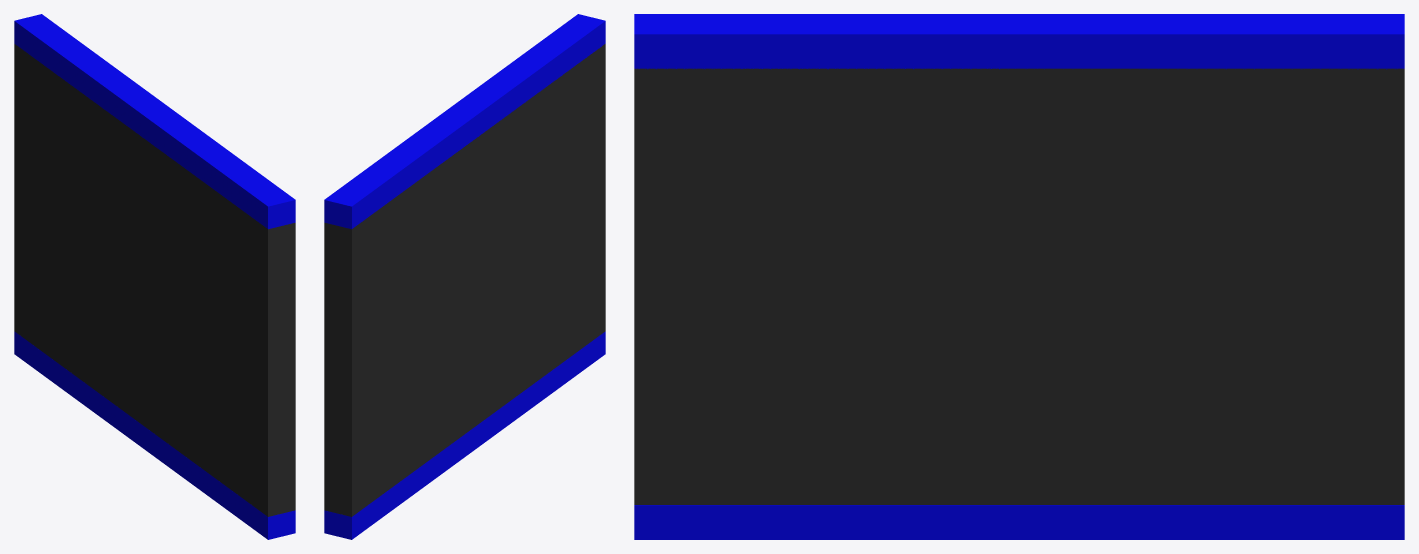
File: pacman_wall.obj
The picture shows the model from 3 angles, left to right: view 1: azimuth 30°, elevation 25°; view 2: azimuth 150°, elevation 25°; view 3: azimuth 270°, elevation 25°; orthographic projection. The views are drawn at different scales.
Visible parts, largest first — view 1: Cube, Cube.001, Cube.002; view 2: Cube, Cube.001, Cube.002; view 3: Cube, Cube.001, Cube.002.
Part boxes in pixels (left/top/right/bottom): Cube: left=14, top=44, right=295, bottom=516; Cube.001: left=14, top=14, right=295, bottom=229; Cube.002: left=14, top=331, right=295, bottom=539; Cube: left=324, top=44, right=605, bottom=516; Cube.001: left=324, top=14, right=605, bottom=229; Cube.002: left=324, top=331, right=605, bottom=539; Cube: left=634, top=68, right=1404, bottom=504; Cube.001: left=634, top=14, right=1404, bottom=69; Cube.002: left=634, top=505, right=1404, bottom=539.
Bounding box in the file's own units: 0.5029 × 5.79 × 8.
